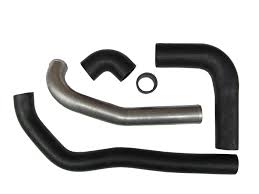radiator_hose: (13, 93, 238, 175), (156, 43, 240, 149)
